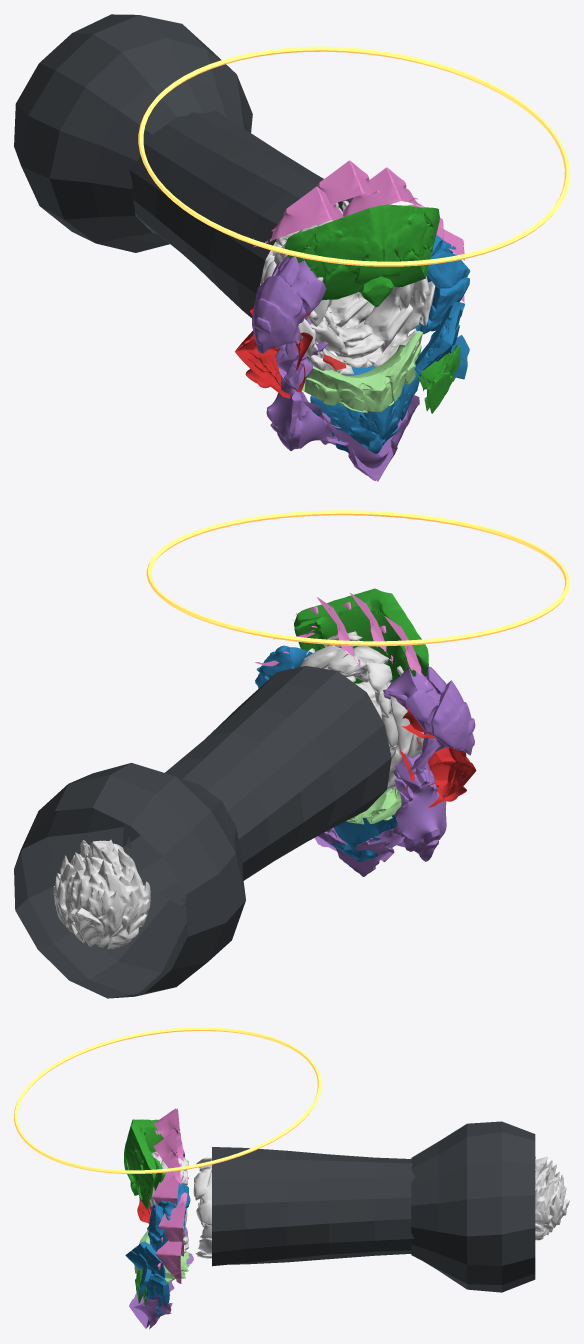
Rendered from DL_Aurora_v12.glb.
The picture shows the model from 3 angles, top to bottom: view 1: azimuth 30°, elevation 25°; view 2: azimuth 150°, elevation 25°; view 3: azimuth 270°, elevation 25°; orthographic projection. The views are drawn at different scales.
Visible parts, largest first — view 1: DL_ThresholdChamber, DL_TunnelShell, DL_Shard_01, DL_TunnelRing_00, DL_Halo, DL_Shard_06, DL_Shard_15, DL_Shard_02, DL_Shard_13, DL_Shard_03, DL_Shard_14, DL_Shard_09 (+4 smaller); view 2: DL_ThresholdChamber, DL_TunnelShell, DL_LatentShell, DL_Halo, DL_Shard_01, DL_Shard_15, DL_TunnelRing_00, DL_Shard_13, DL_Shard_16, DL_Shard_06, DL_Shard_09, DL_Shard_03 (+2 smaller); view 3: DL_TunnelShell, DL_ThresholdChamber, DL_Halo, DL_Shard_01, DL_Shard_05, DL_LatentShell, DL_TunnelRing_02, DL_Shard_06, DL_Shard_14, DL_Shard_09, DL_Shard_07, DL_Shard_03 (+2 smaller).
Part boxes in pixels (left/top/right/bottom): DL_ThresholdChamber: left=14, top=14, right=252, bottom=252; DL_TunnelShell: left=129, top=111, right=365, bottom=322; DL_Shard_01: left=284, top=204, right=439, bottom=306; DL_TunnelRing_00: left=298, top=276, right=435, bottom=374; DL_Halo: left=138, top=46, right=569, bottom=266; DL_Shard_06: left=252, top=160, right=423, bottom=246; DL_Shard_15: left=252, top=255, right=326, bottom=353; DL_Shard_02: left=302, top=331, right=422, bottom=412; DL_Shard_13: left=266, top=317, right=340, bottom=450; DL_Shard_03: left=310, top=365, right=419, bottom=453; DL_Shard_14: left=415, top=235, right=470, bottom=334; DL_Shard_09: left=303, top=395, right=419, bottom=481; DL_ThresholdChamber: left=14, top=763, right=245, bottom=998; DL_TunnelShell: left=122, top=666, right=391, bottom=906; DL_LatentShell: left=53, top=839, right=150, bottom=949; DL_Halo: left=146, top=510, right=569, bottom=646; DL_Shard_01: left=294, top=588, right=428, bottom=683; DL_Shard_15: left=383, top=666, right=475, bottom=779; DL_TunnelRing_00: left=300, top=631, right=423, bottom=789; DL_Shard_13: left=374, top=752, right=446, bottom=861; DL_Shard_16: left=399, top=704, right=476, bottom=807; DL_Shard_06: left=274, top=593, right=430, bottom=687; DL_Shard_09: left=314, top=828, right=404, bottom=876; DL_Shard_03: left=329, top=814, right=397, bottom=862; DL_TunnelShell: left=212, top=1147, right=415, bottom=1266; DL_ThresholdChamber: left=411, top=1121, right=535, bottom=1292; DL_Halo: left=14, top=1027, right=321, bottom=1173; DL_Shard_01: left=124, top=1119, right=165, bottom=1209; DL_Shard_05: left=152, top=1147, right=188, bottom=1283; DL_LatentShell: left=535, top=1156, right=569, bottom=1240; DL_TunnelRing_02: left=193, top=1157, right=211, bottom=1258; DL_Shard_06: left=153, top=1108, right=183, bottom=1184; DL_Shard_14: left=148, top=1183, right=190, bottom=1251; DL_Shard_09: left=129, top=1252, right=193, bottom=1329; DL_Shard_07: left=125, top=1241, right=165, bottom=1282; DL_Shard_03: left=136, top=1278, right=169, bottom=1314.
Size of the model in its own units: 8.84 by 7.73 by 15.92.
